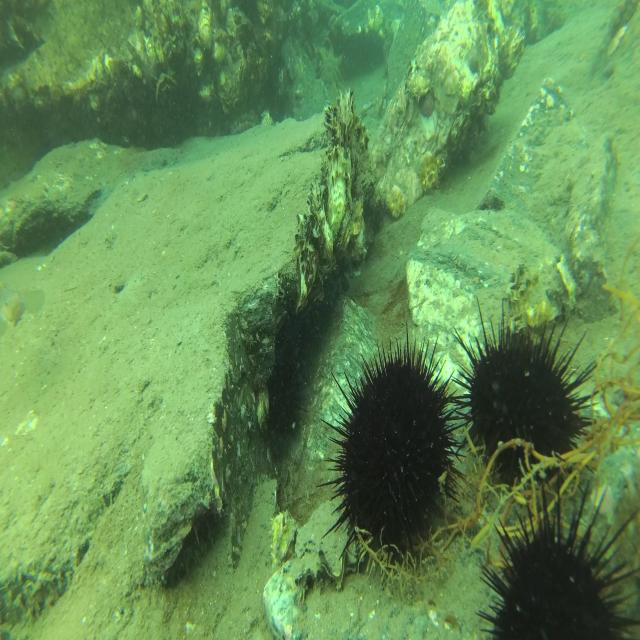echinus: (321, 324, 465, 580), (453, 296, 601, 505), (476, 476, 640, 640), (263, 352, 310, 447)
